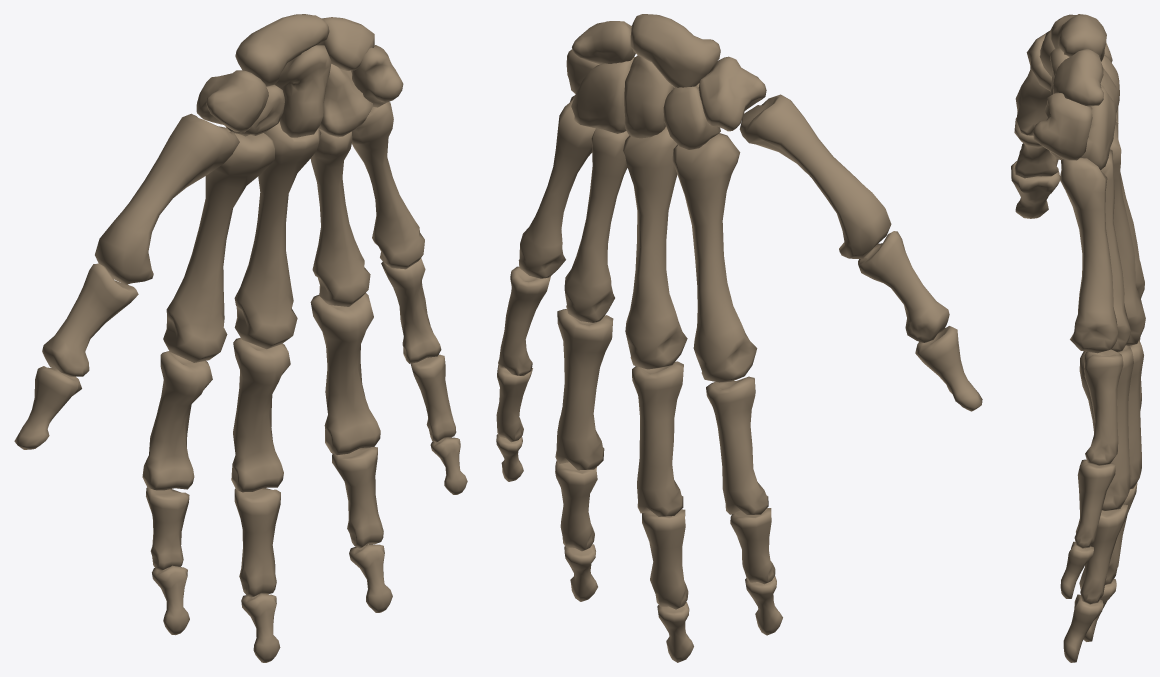
Rendered from Human_Hand_Bones.FBX.
3 views of the same model, side by side, from view 1: azimuth 30°, elevation 25°; view 2: azimuth 150°, elevation 25°; view 3: azimuth 270°, elevation 25° (orthographic).
Visible parts, largest first — view 1: Hand_R; view 2: Hand_R; view 3: Hand_R.
Boxes of the visible parts, <box> form: Hand_R: <box>14,14,467,662</box>; Hand_R: <box>496,14,982,662</box>; Hand_R: <box>1011,14,1145,662</box>.
Size of the model in its own units: 13.03 by 17.13 by 3.31.
